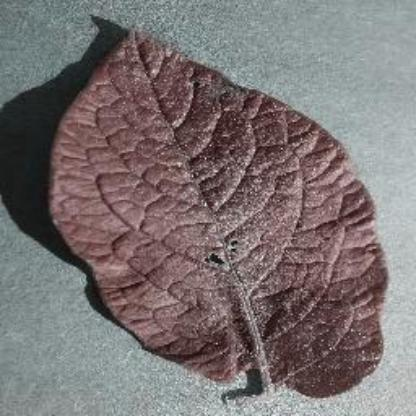Healthy-plant: (39, 18, 388, 406)
